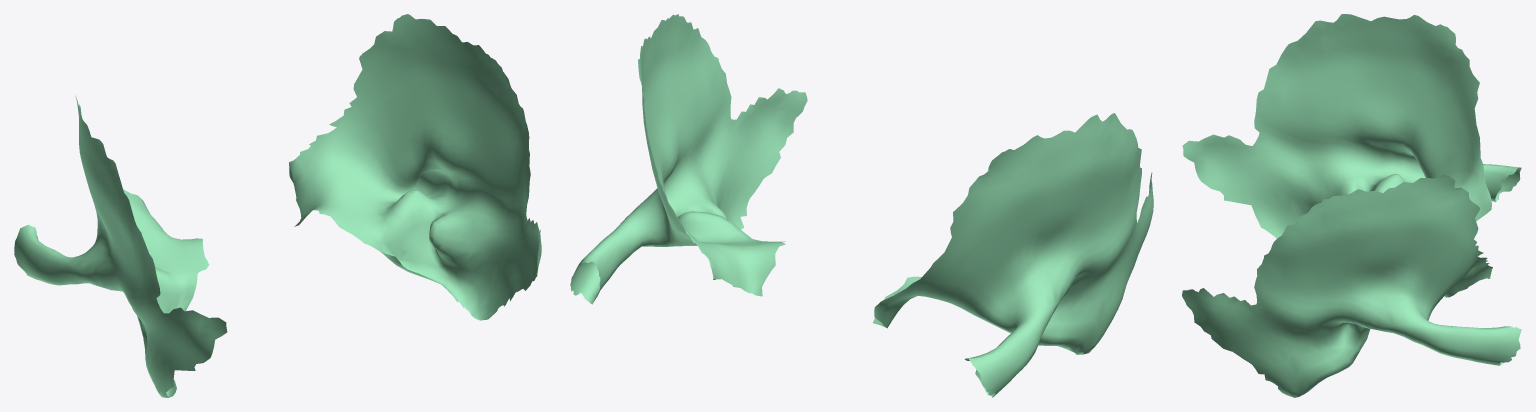
File: Teporale.fbx
The picture shows the model from 3 angles, left to right: view 1: azimuth 30°, elevation 25°; view 2: azimuth 150°, elevation 25°; view 3: azimuth 270°, elevation 25°; orthographic projection. The views are drawn at different scales.
Visible parts, largest first — view 1: Teporale; view 2: Teporale; view 3: Teporale.
Boxes of the visible parts, x1=… form: Teporale: x1=14, y1=14, x2=541, y2=397; Teporale: x1=570, y1=14, x2=1153, y2=397; Teporale: x1=1182, y1=14, x2=1521, y2=397.
Bounding box in the file's own units: 638 × 388 × 515.
